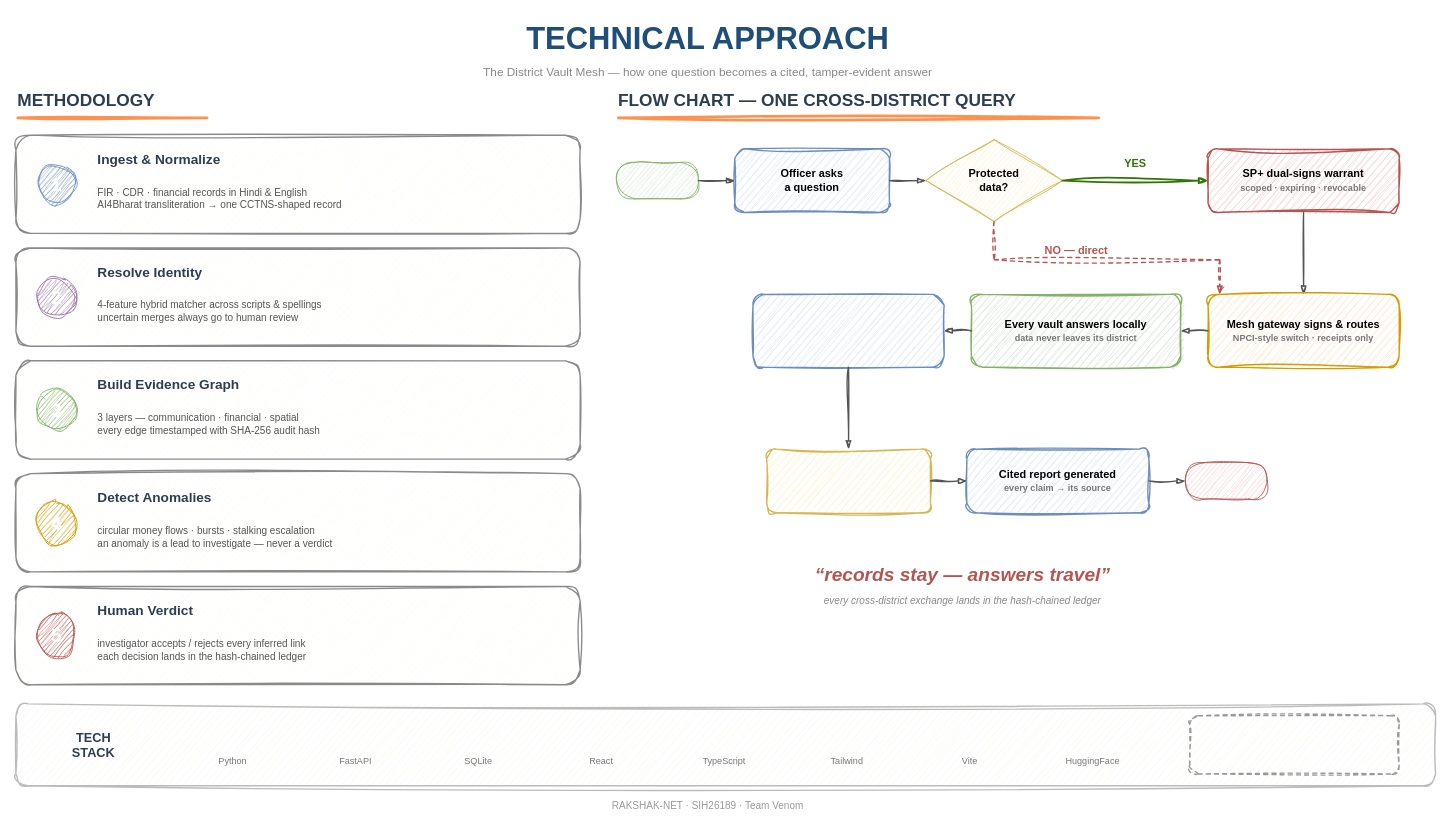
Image size: 1452x832. Some labels were removed from this diagram. Each missing label, with the centre of its shape:
Answer + receipt return HMAC-signed: pixel 848 330
END: pixel 1225 480
Hash-chain verified SHA-256 walk names any break: pixel 848 480
scale-up path: Neo4j · pgvector: pixel 1294 744
START: pixel 657 180
